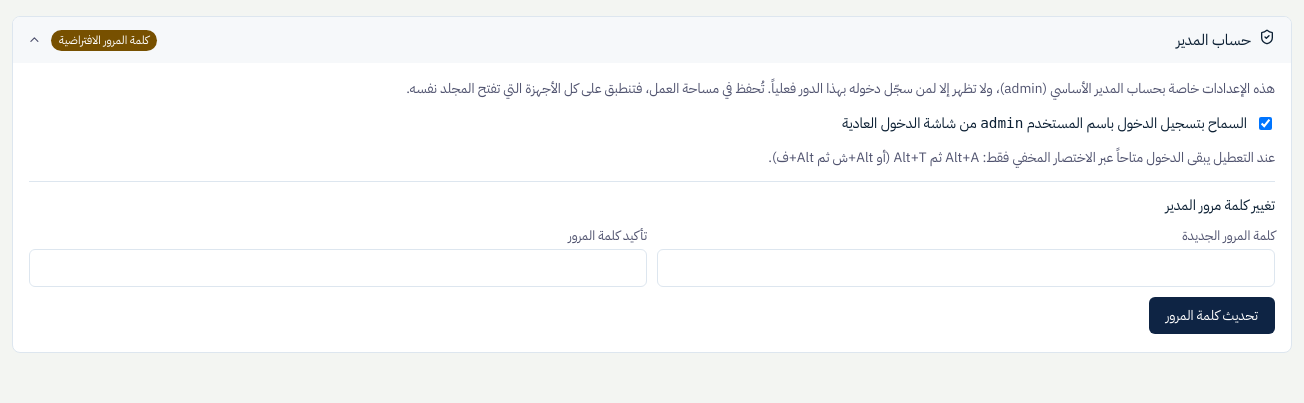
Test: AdminAccountSection — editing › saves a new passcode and persists it to the workspace
This screenshot has width=1304, height=403.
Type "new-pass" into the password field labelled "كلمة المرور الجديدة". click: (966, 268)
box: [657,249,1275,287]
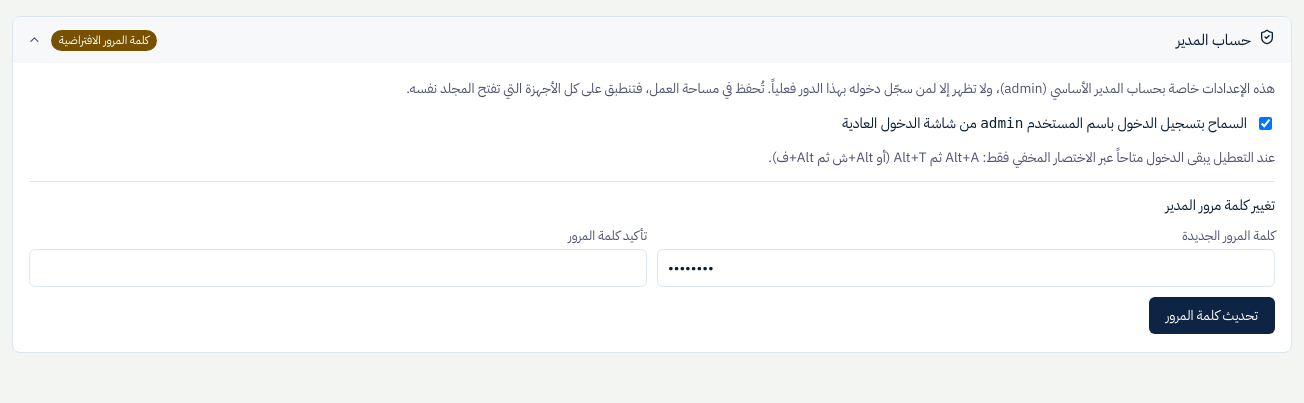
Type "new-pass" into the password field labelled "تأكيد كلمة المرور". click: (338, 268)
box: [29,249,647,287]
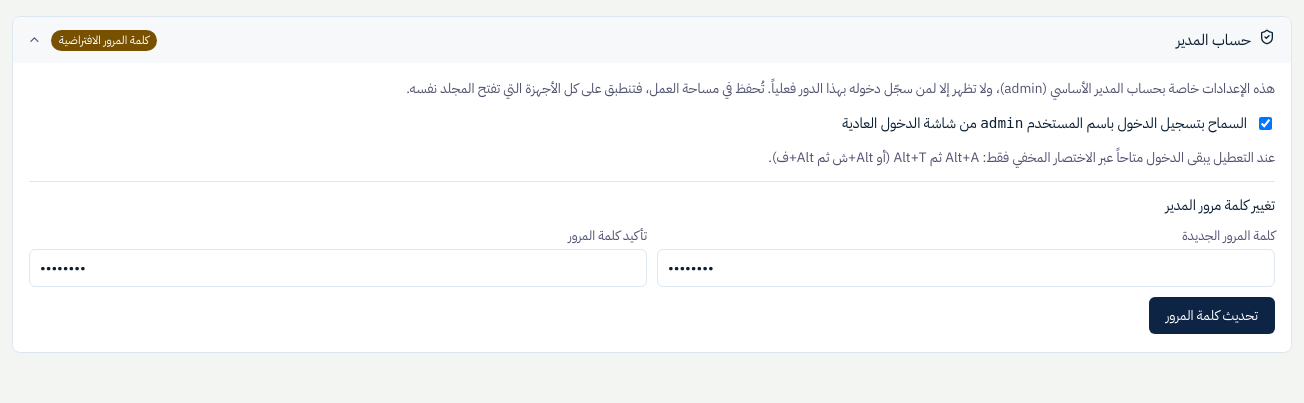
Click the button "تحديث كلمة المرور". click: (1212, 316)
box: [1149,297,1275,334]
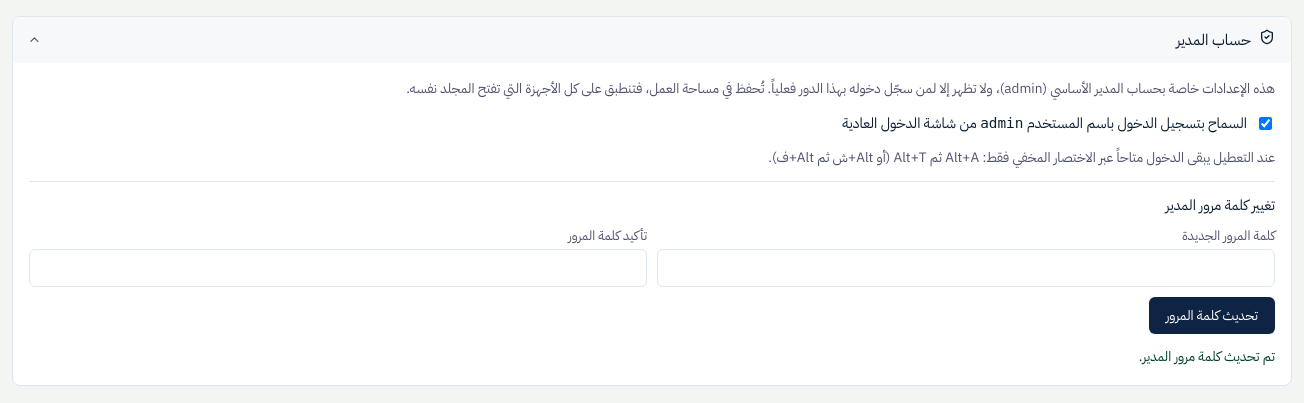
Result: the text "تم تحديث كلمة مرور المدير." is shown at [1139,346,1275,367]
